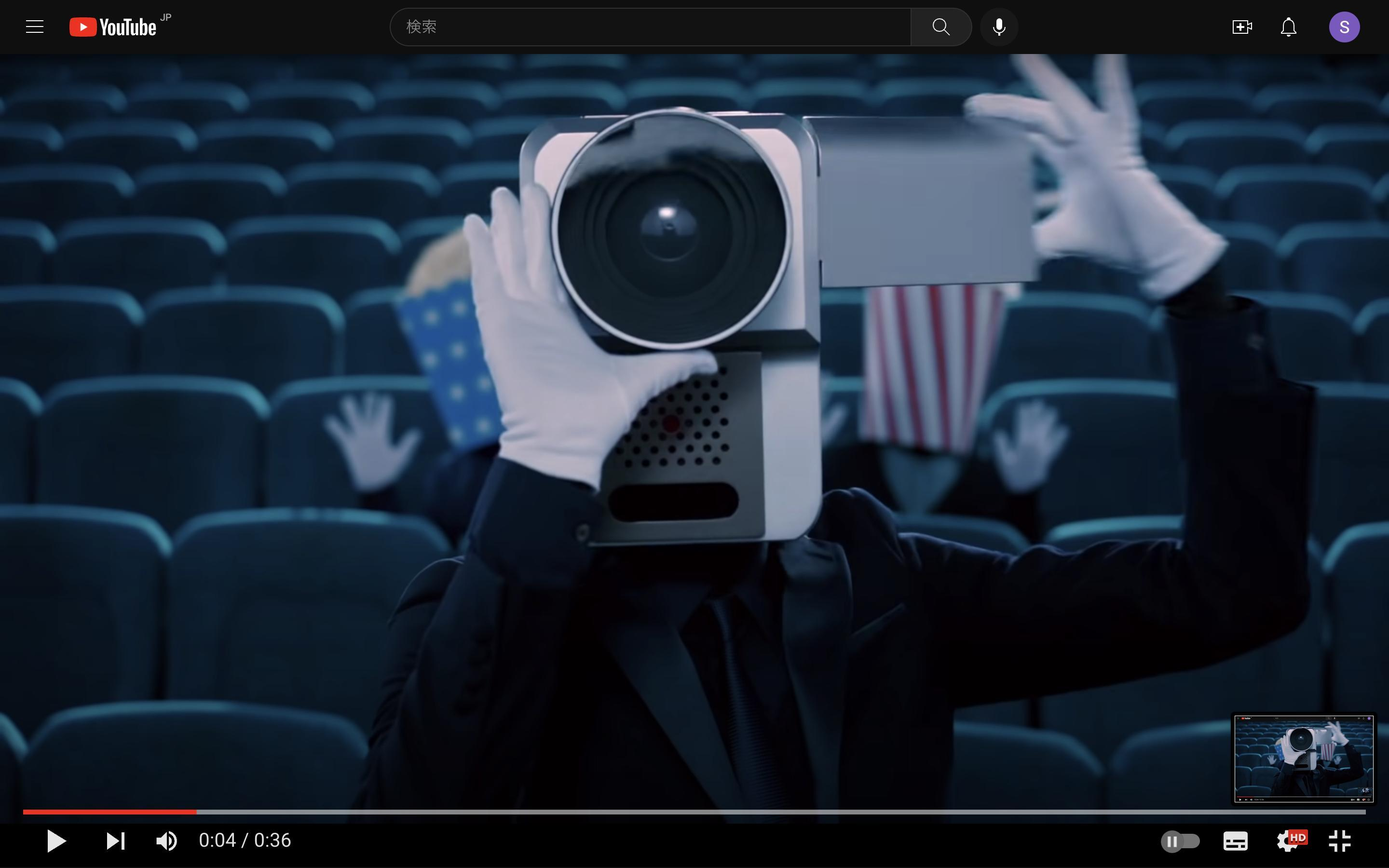no more kid: (474, 74, 1059, 583)
